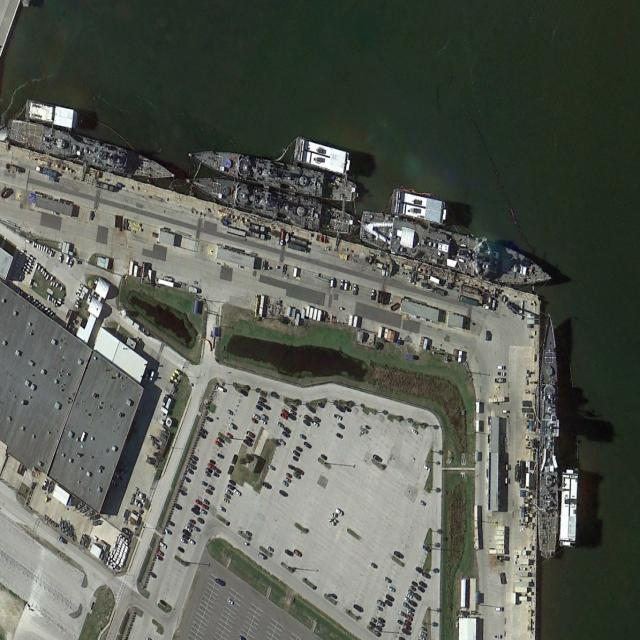Destroyer: (358, 208, 555, 296)
Frigate: (8, 115, 176, 188), (184, 168, 356, 237), (187, 141, 359, 206), (537, 313, 561, 559)
